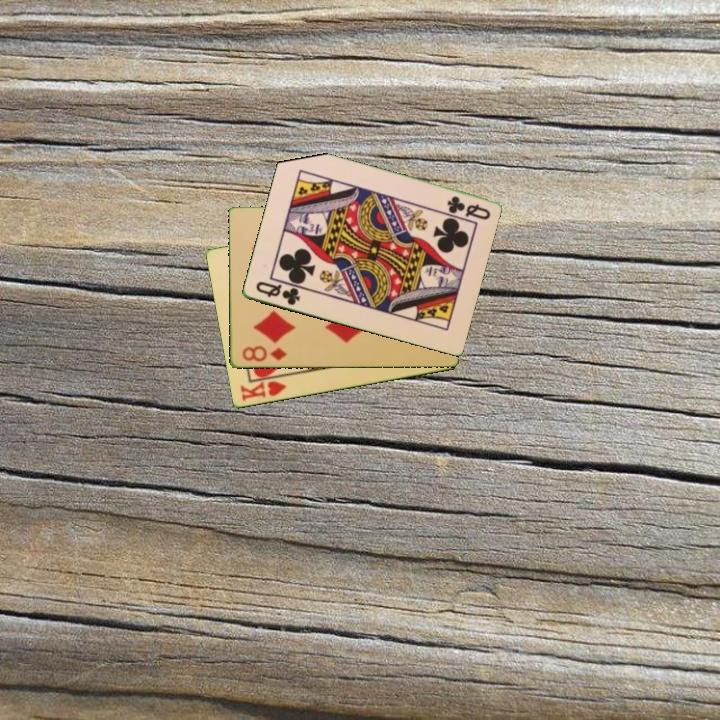8d: (238, 342, 289, 365)
Kh: (236, 372, 291, 404)
Qc: (252, 278, 303, 309), (443, 193, 493, 223)
